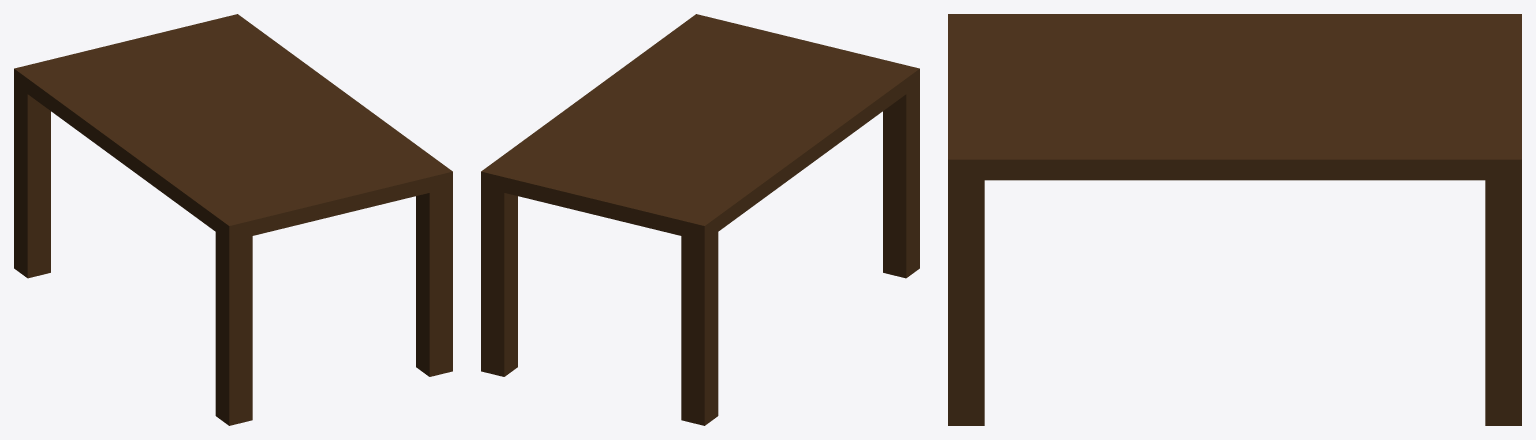
The model's file is table.glb.
The picture shows the model from 3 angles, left to right: view 1: azimuth 30°, elevation 25°; view 2: azimuth 150°, elevation 25°; view 3: azimuth 270°, elevation 25°; orthographic projection. The views are drawn at different scales.
Visible parts, largest first — view 1: Cube; view 2: Cube; view 3: Cube.
Boxes of the visible parts, box(x1,y1,x2,y2) form: Cube: box(14, 14, 452, 425); Cube: box(481, 14, 919, 425); Cube: box(948, 14, 1521, 425).
Size of the model in its own units: 6 by 5.12 by 10.
